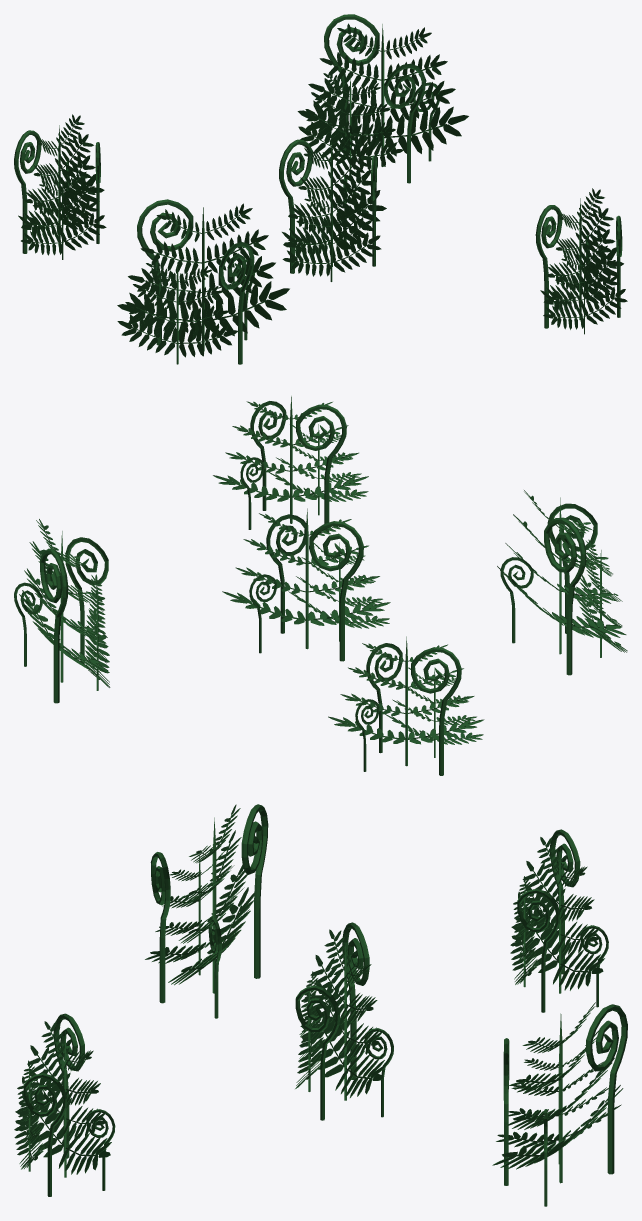
The model's file is 고사리.fbx.
3 views of the same model, one above another, from view 1: azimuth 30°, elevation 25°; view 2: azimuth 150°, elevation 25°; view 3: azimuth 270°, elevation 25° (orthographic). The views are drawn at different scales.
Parts seen in each view (by area): view 1: Cylinder006; view 2: Cylinder006; view 3: Cylinder006.
Boxes of the visible parts, <box> form: Cylinder006: <box>14,14,627,364</box>; Cylinder006: <box>14,396,627,775</box>; Cylinder006: <box>14,804,627,1206</box>.
Bounding box in the file's own units: 183 × 56.27 × 176.
